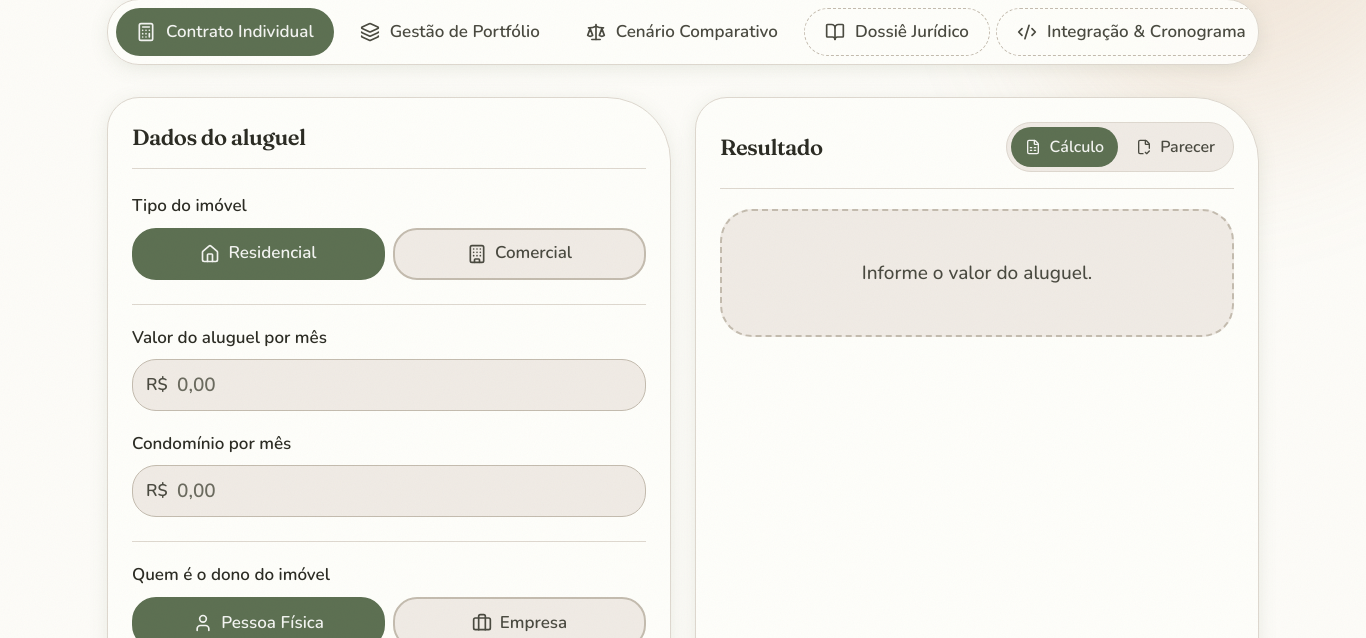
Test: Área reservada (Modo Profissional) › oferece o parecer de auditoria ao lado do cálculo
The image size is (1366, 638).
(page scrolled)
In the field labelled "Valor do aluguel por mês": x=389, y=385 [132,359,646,411], type "500000"
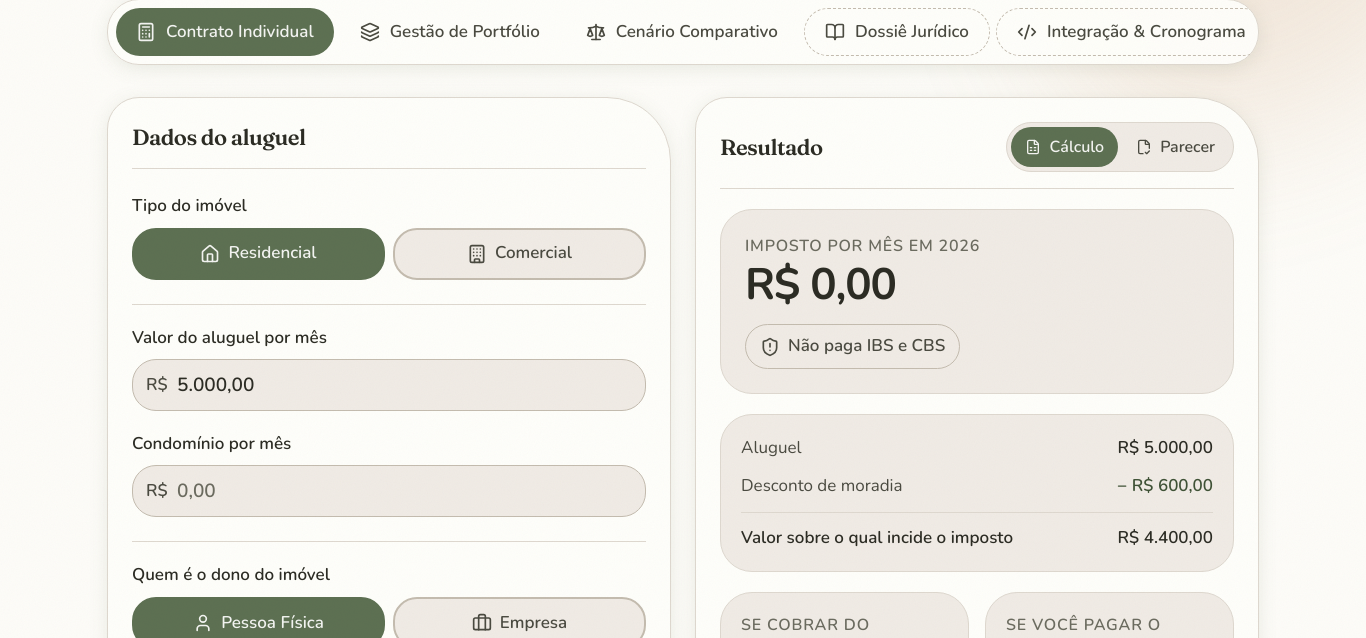
Click the button "Parecer": x=1176, y=147 [1122,127,1229,167]
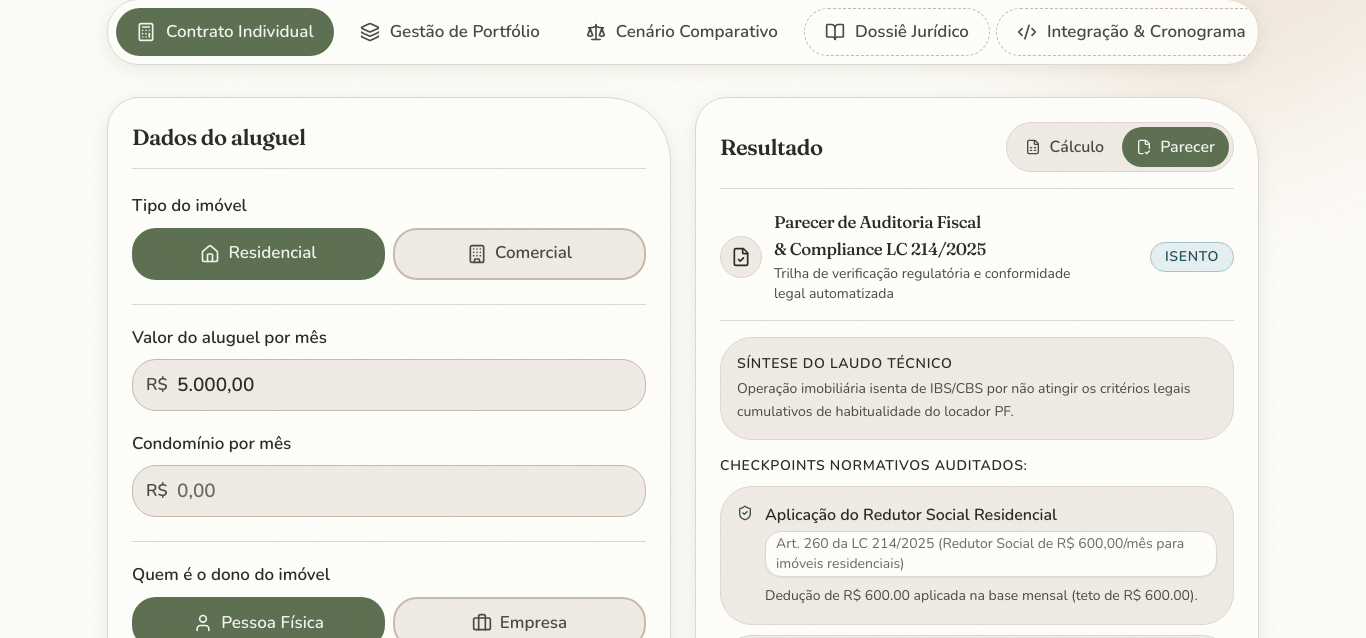
Check: the heading "Parecer de Auditoria Fiscal & Compliance LC 214/2025" is shown, box [774,211,986,259]
